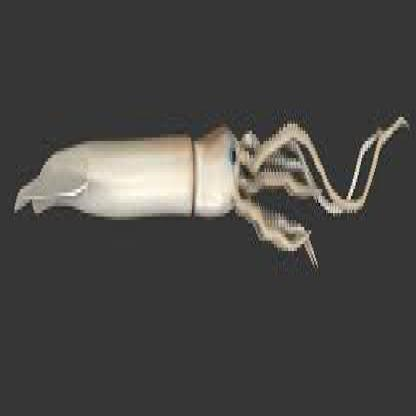colossal_squid: (15, 62, 414, 354)
